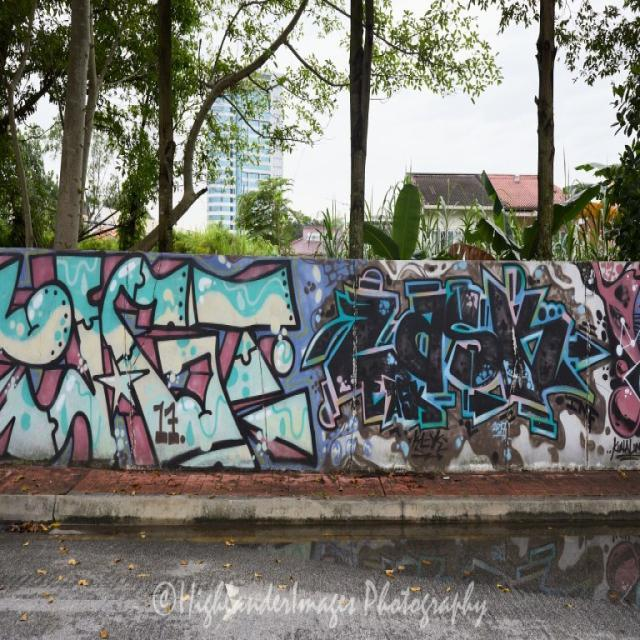-: (0, 251, 318, 478), (302, 263, 610, 447), (576, 260, 640, 439), (410, 430, 444, 460), (611, 440, 640, 463)
